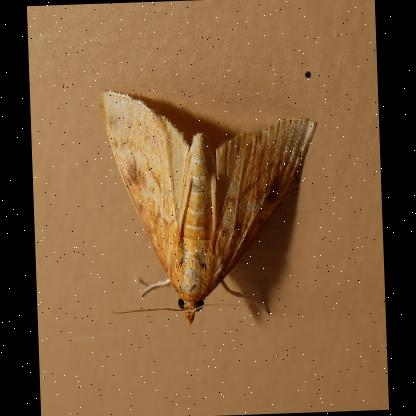Asian Corn Borer Moth: (96, 78, 328, 332)
